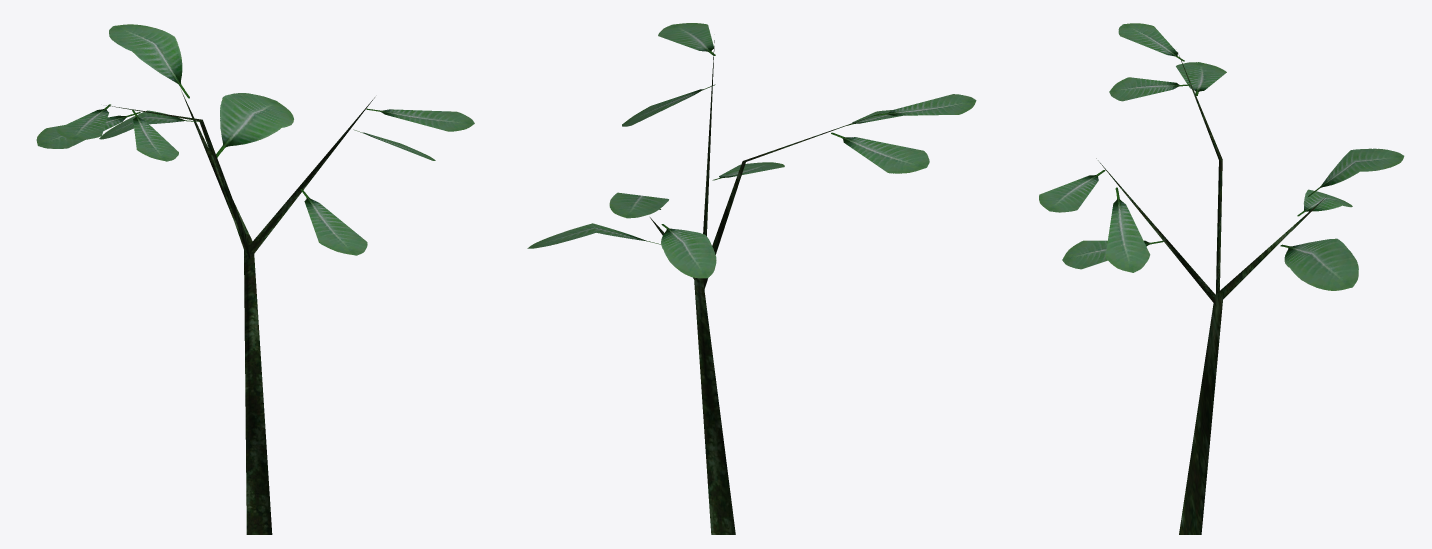
The model's file is leaf_forestsprout_a1_l2.fbx.
The picture shows the model from 3 angles, left to right: view 1: azimuth 30°, elevation 25°; view 2: azimuth 150°, elevation 25°; view 3: azimuth 270°, elevation 25°; orthographic projection. The views are drawn at different scales.
Visible parts, largest first — view 1: mesh_node; view 2: mesh_node; view 3: mesh_node.
Boxes of the visible parts, bbox=[...] form: mesh_node: bbox=[36, 24, 474, 534]; mesh_node: bbox=[527, 23, 976, 534]; mesh_node: bbox=[1039, 23, 1404, 534].
Bounding box in the file's own units: 0.6045 × 0.6772 × 0.5936.
1 material, 1 textured.
